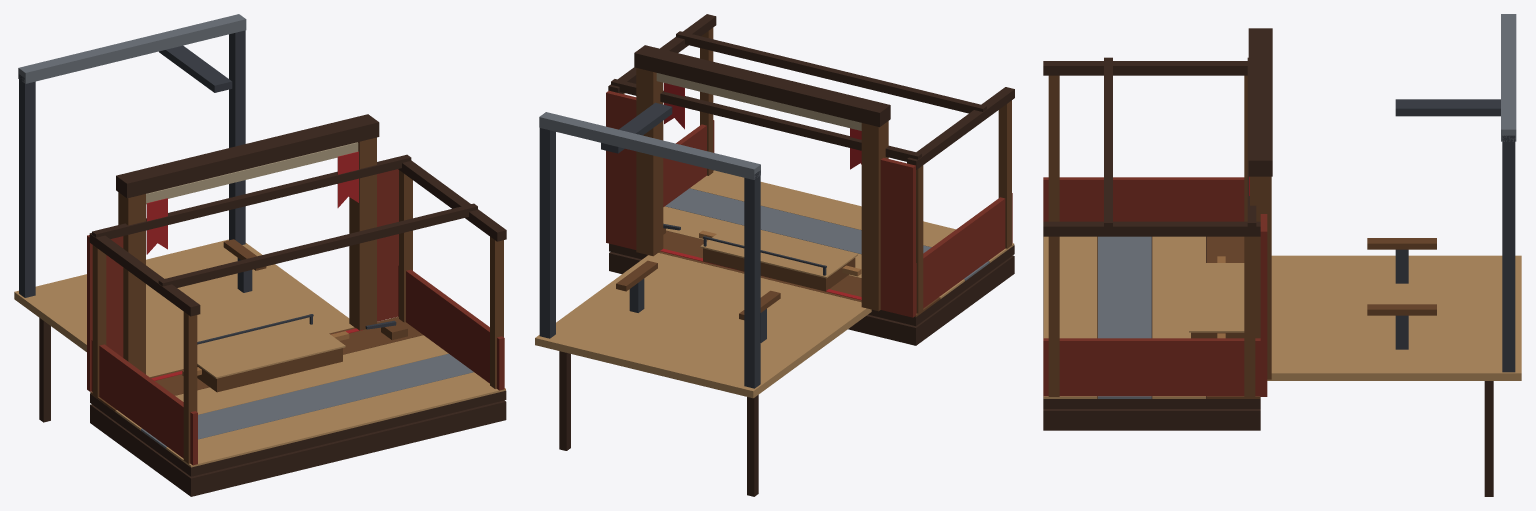
The model's file is SM_Env_HangarHub_LQ.glb.
3 renders of one model, left to right at view 1: azimuth 30°, elevation 25°; view 2: azimuth 150°, elevation 25°; view 3: azimuth 270°, elevation 25°, orthographic. The views are drawn at different scales.
Parts seen in each view (by area): view 1: SM_Env_HangarHub_LQ; view 2: SM_Env_HangarHub_LQ; view 3: SM_Env_HangarHub_LQ.
Boxes of the visible parts, box(x1,y1,x2,y2) form: SM_Env_HangarHub_LQ: box(14, 14, 506, 496); SM_Env_HangarHub_LQ: box(535, 14, 1014, 496); SM_Env_HangarHub_LQ: box(1043, 14, 1521, 496).
Bounding box in the file's own units: 18.05 × 18.9 × 22.
1 material, 1 textured.
